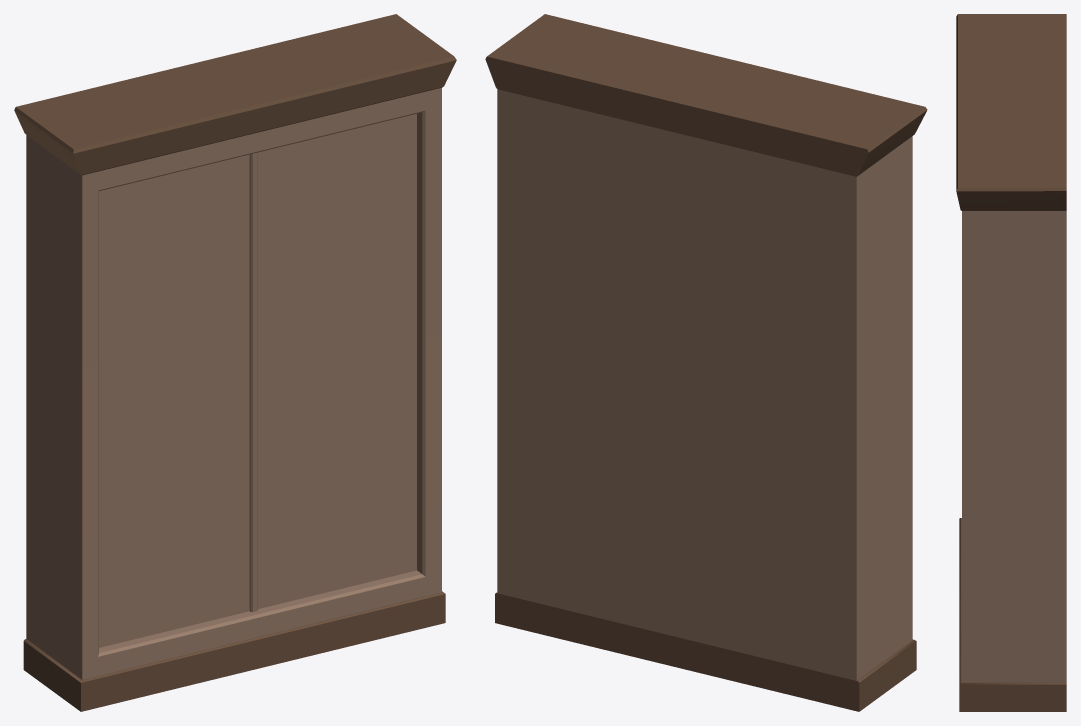
File: Closset.fbx
The picture shows the model from 3 angles, left to right: view 1: azimuth 30°, elevation 25°; view 2: azimuth 150°, elevation 25°; view 3: azimuth 270°, elevation 25°; orthographic projection. The views are drawn at different scales.
Parts seen in each view (by area): view 1: Bookcase_low1; view 2: Bookcase_low1; view 3: Bookcase_low1.
Boxes of the visible parts, x1,y1,x2,y2 form: Bookcase_low1: (14,14,456,711); Bookcase_low1: (485,14,927,711); Bookcase_low1: (956,14,1066,711).
Bounding box in the file's own units: 352 × 496 × 93.82.
